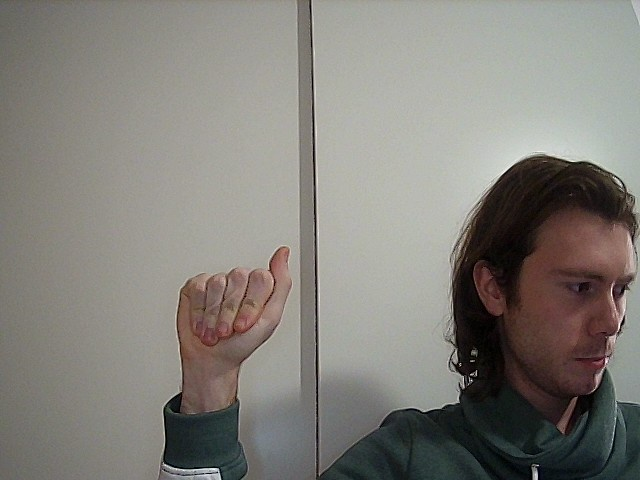a: (162, 237, 302, 370)
